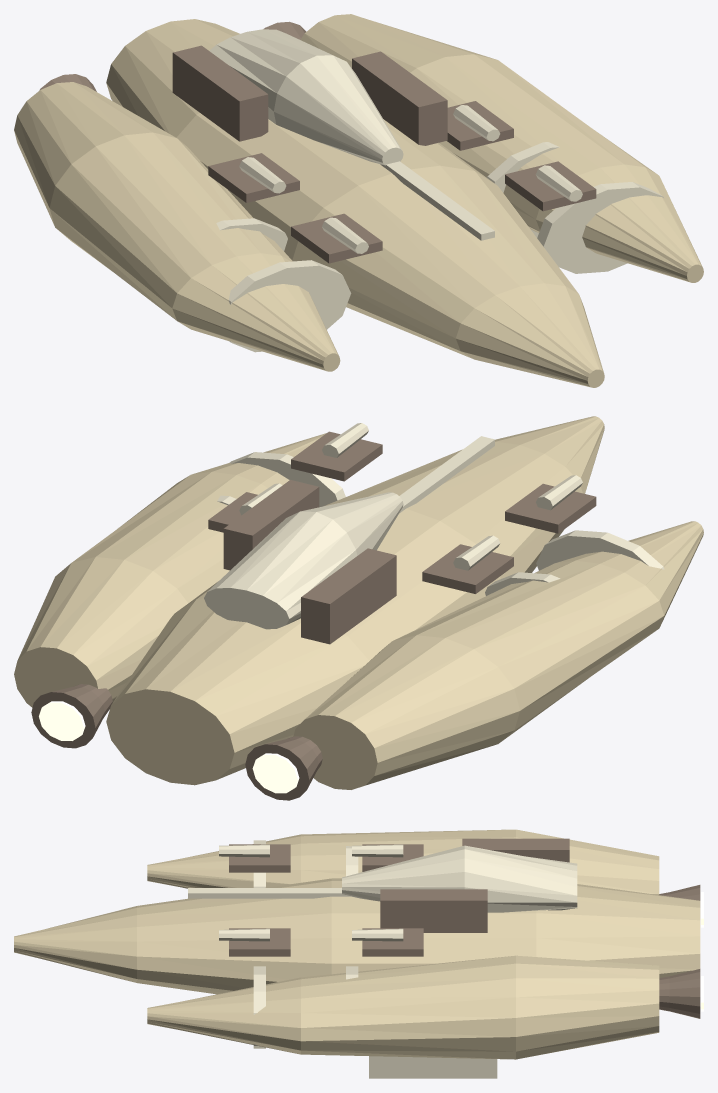
3 views of the same model, one above another, from view 1: azimuth 30°, elevation 25°; view 2: azimuth 150°, elevation 25°; view 3: azimuth 270°, elevation 25° (orthographic). The views are drawn at different scales.
Size of the model in its own units: 10.22 by 3.61 by 15.4.
